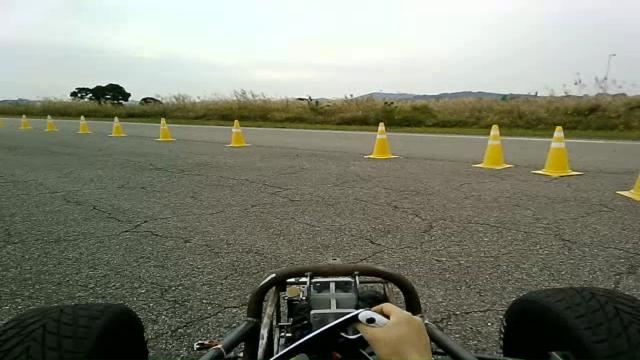yellow cone: (530, 125, 583, 177), (471, 124, 514, 170), (364, 121, 399, 159), (224, 119, 252, 147), (614, 172, 640, 201), (154, 117, 176, 141), (107, 116, 127, 136), (76, 115, 92, 133), (44, 114, 59, 131), (18, 114, 32, 129), (0, 118, 4, 127)
